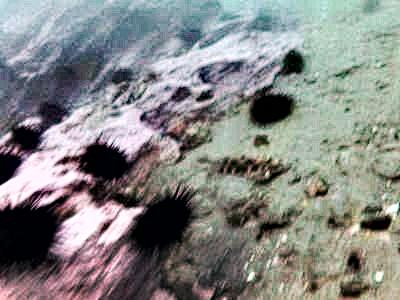urchin: (2, 192, 62, 267), (134, 181, 198, 249), (77, 135, 128, 185), (250, 88, 292, 124), (9, 123, 43, 151), (1, 141, 22, 185)
